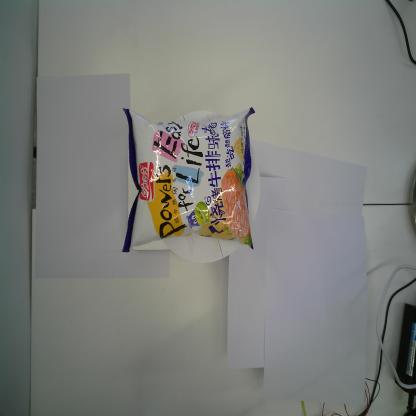Puffed Food: (119, 104, 255, 251)
